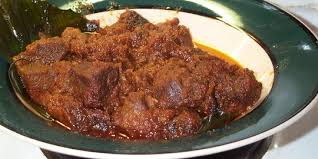rendang: (10, 5, 256, 144)
